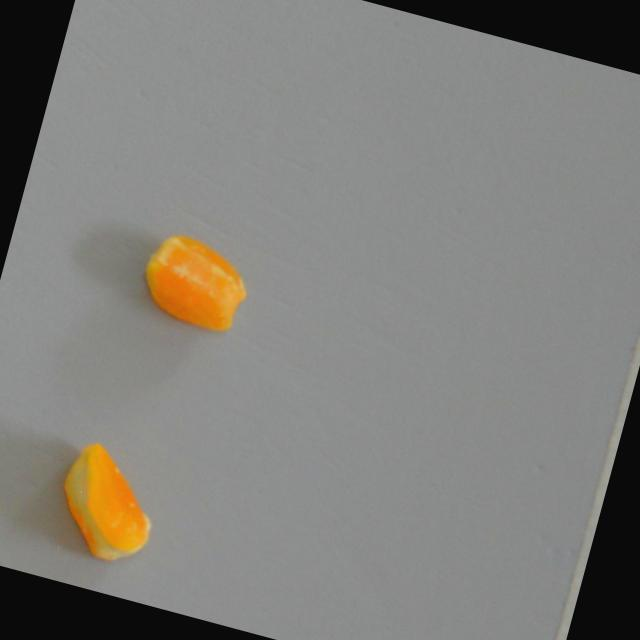pelicula: (42, 431, 174, 573), (128, 220, 261, 340)
